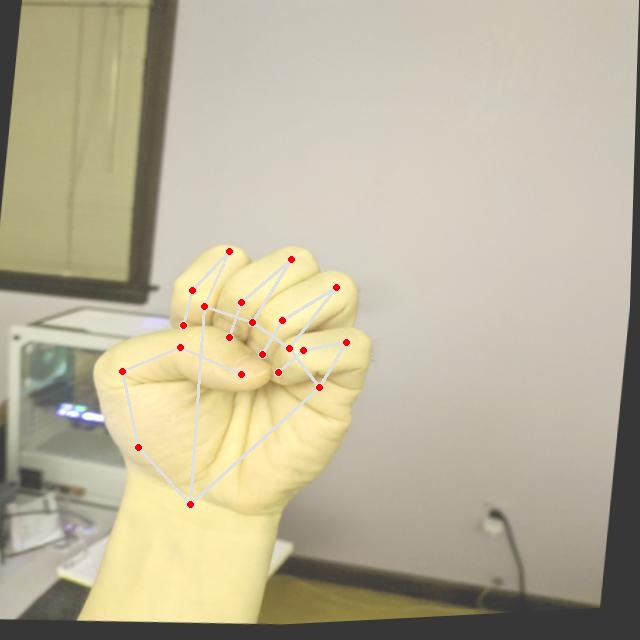E: (73, 227, 392, 541)
